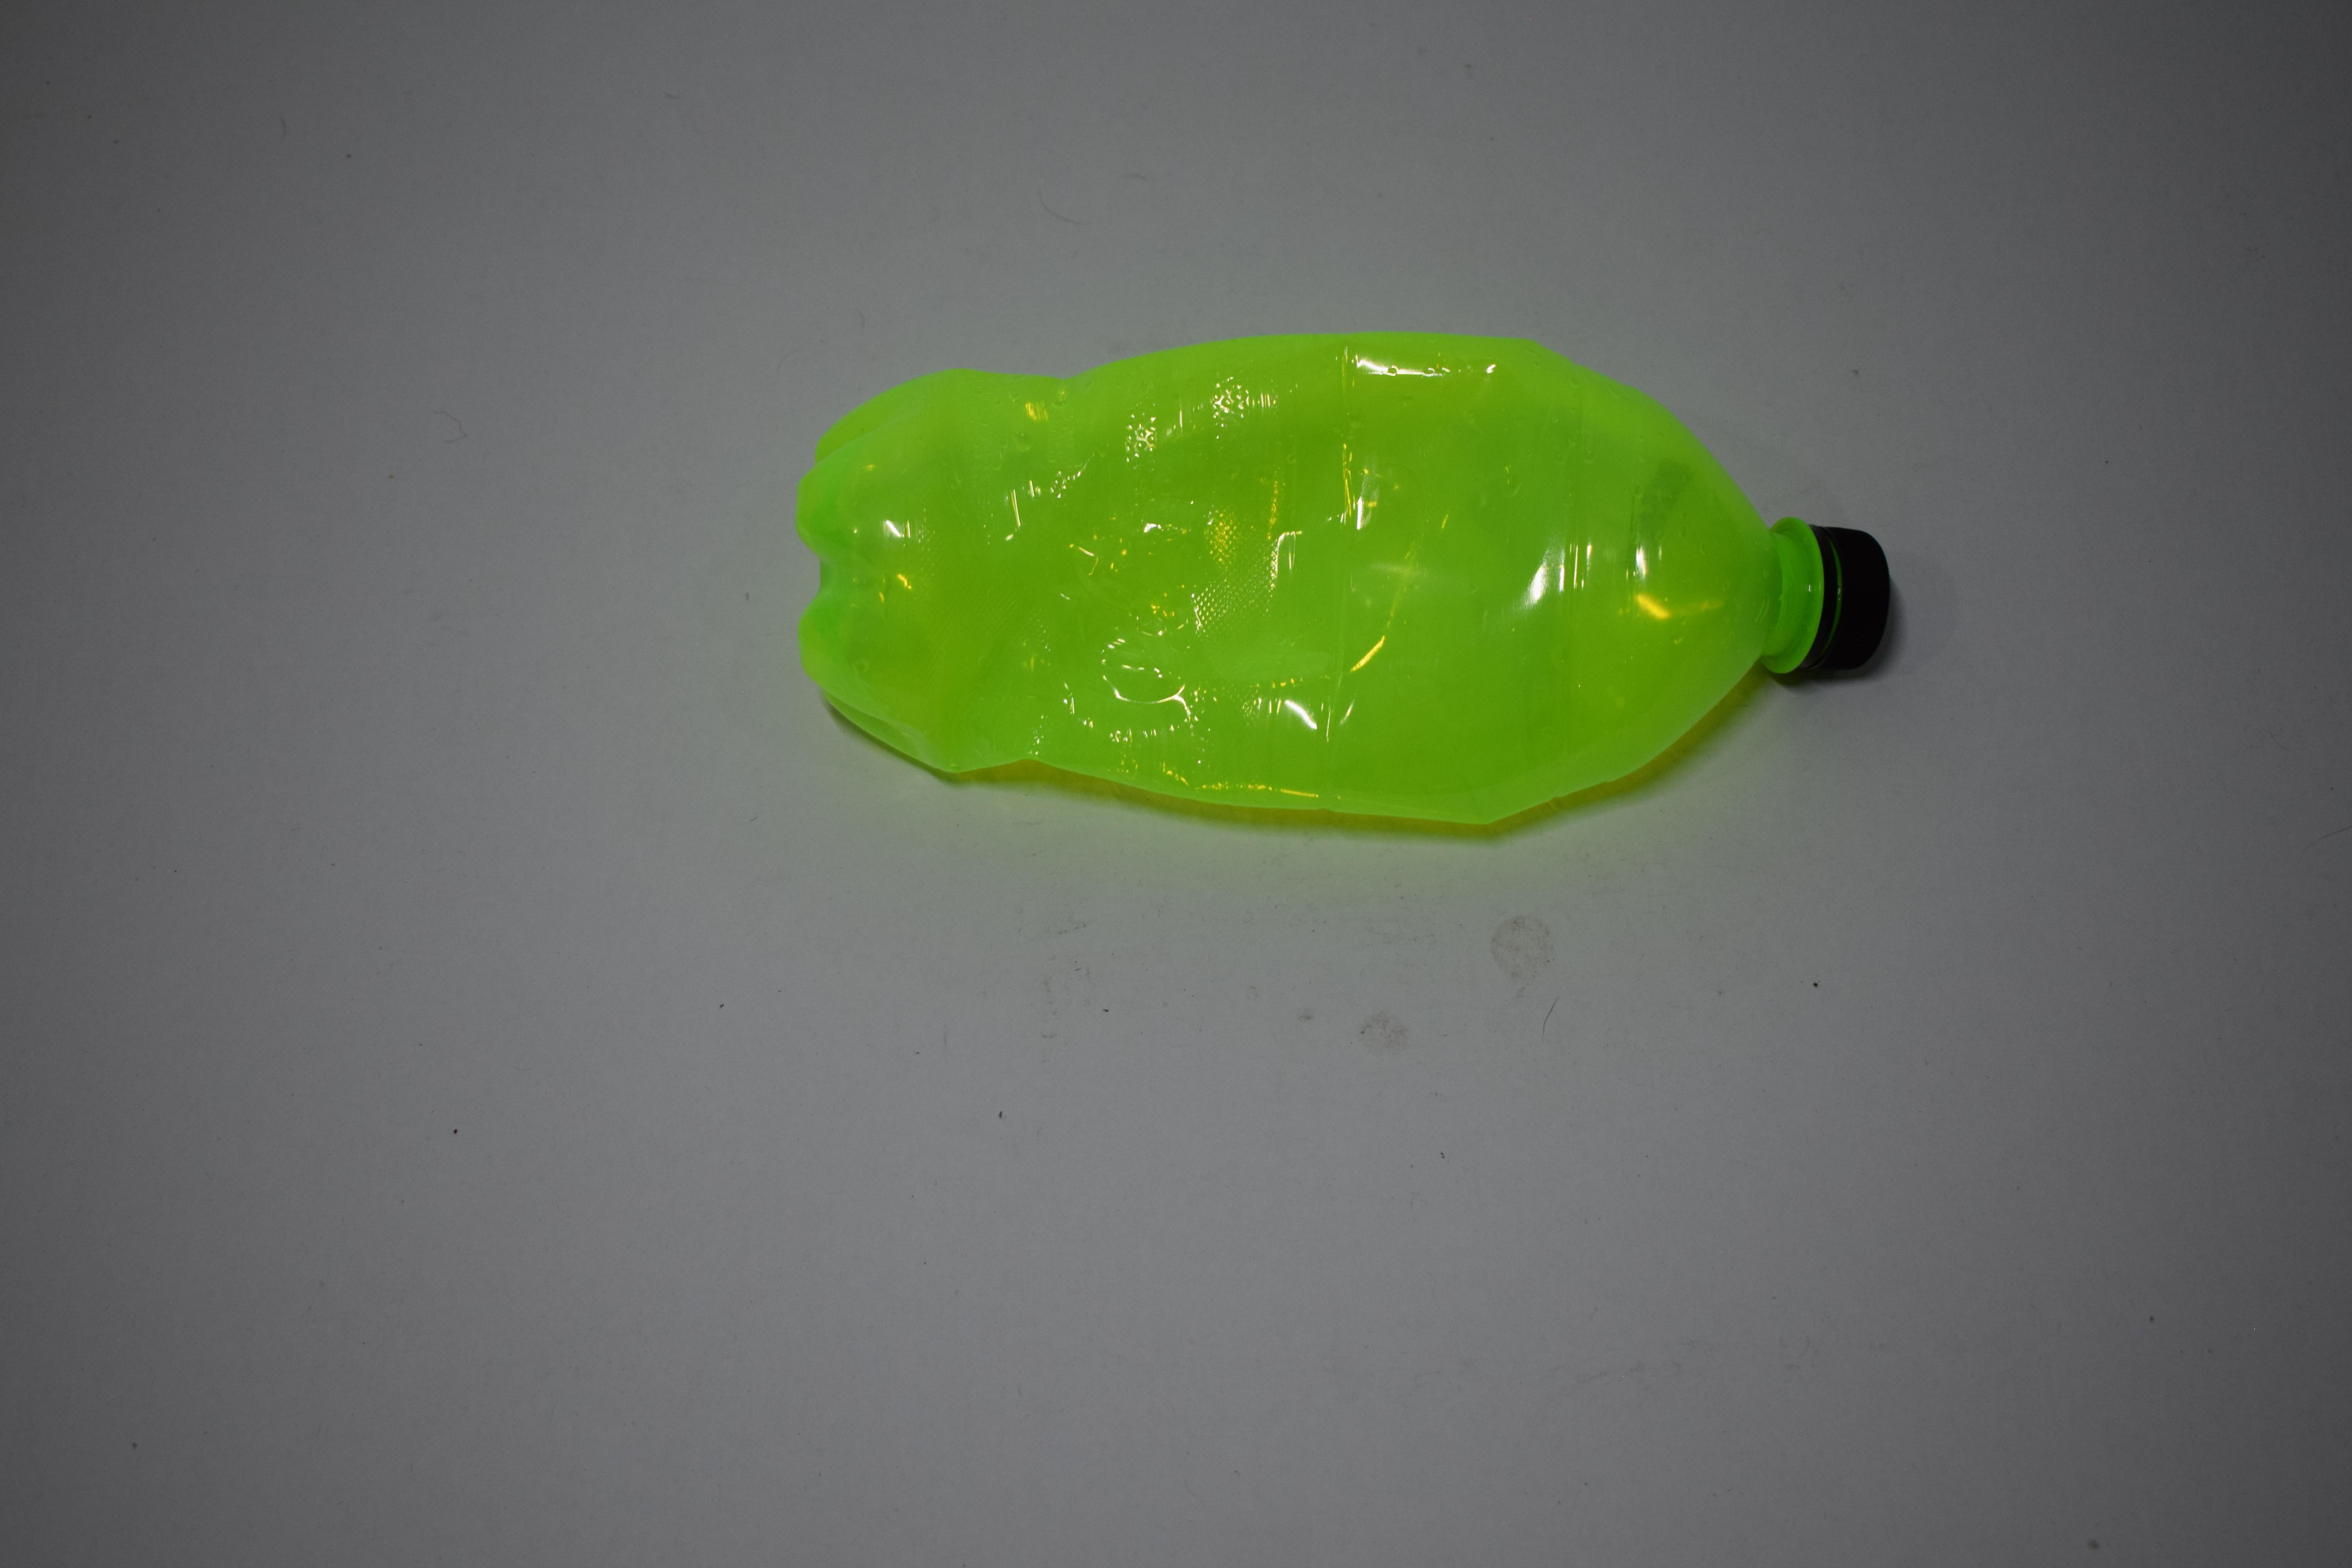bottle: (0, 325, 721, 838)
